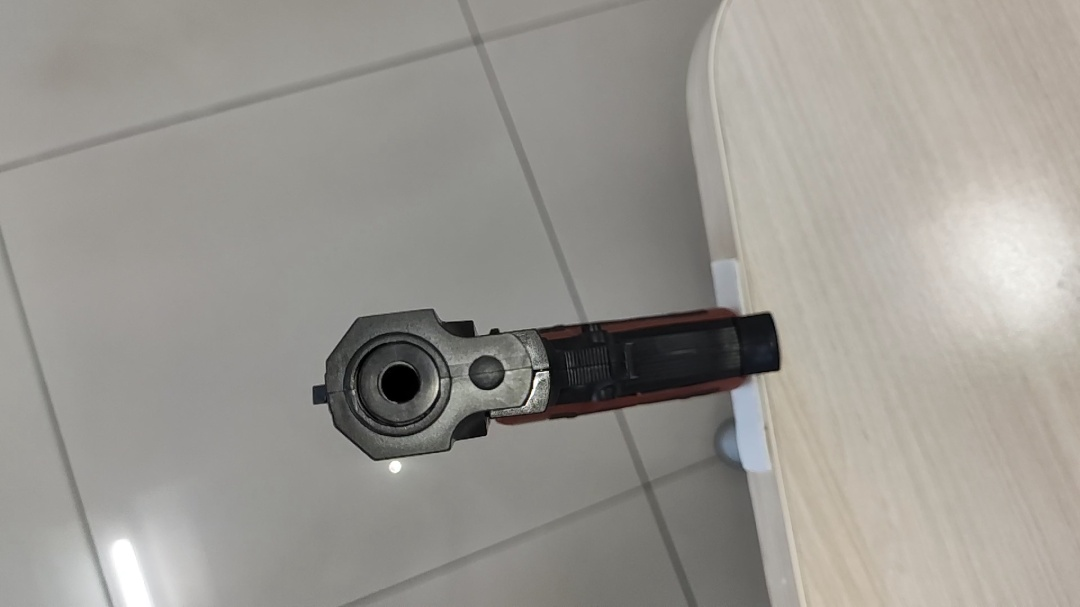gun: (311, 307, 782, 463)
